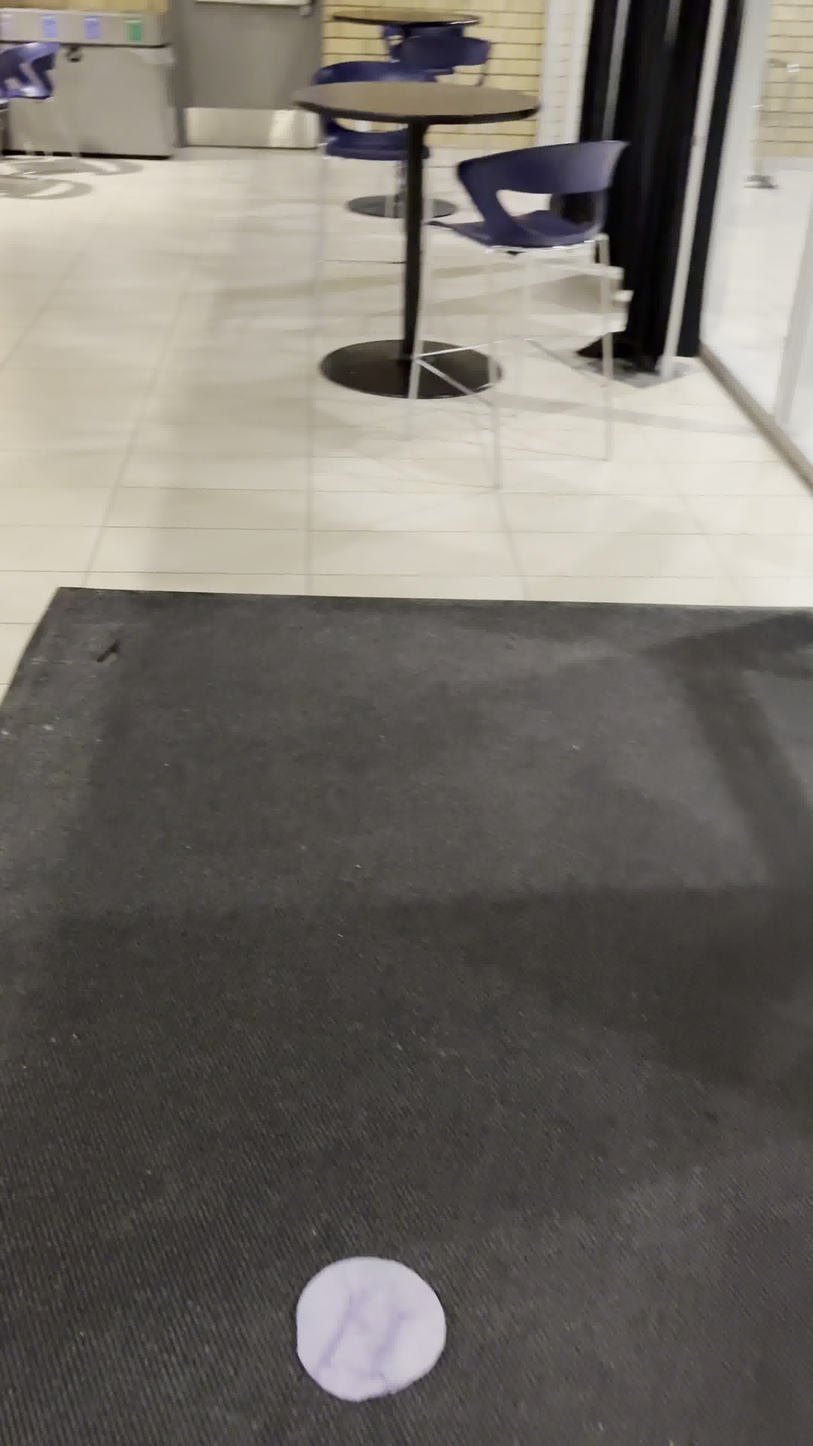Target: (292, 1252, 449, 1406)
